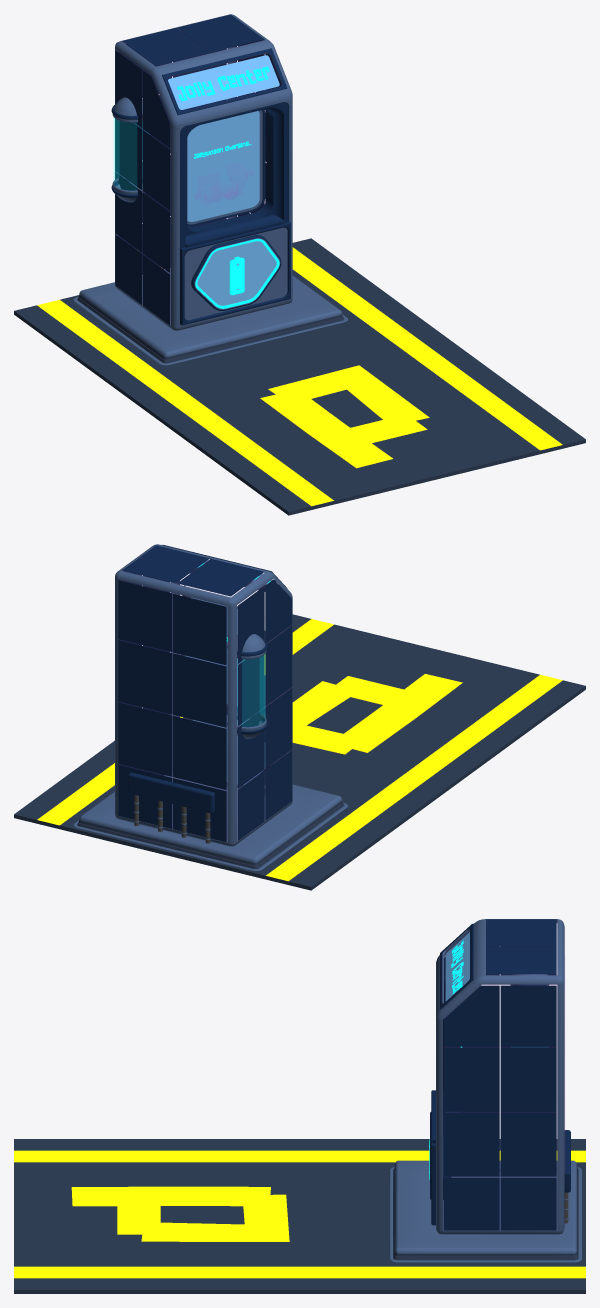
The model's file is JollyCenter.fbx.
The picture shows the model from 3 angles, top to bottom: view 1: azimuth 30°, elevation 25°; view 2: azimuth 150°, elevation 25°; view 3: azimuth 270°, elevation 25°; orthographic projection. The views are drawn at different scales.
Parts seen in each view (by area): view 1: Cube, Machine, Bottom, Parking_P, Charge_Pulse, Capsule, Centertext; view 2: Machine, Cube, Bottom, Parking_P, BackCables, Capsule; view 3: Cube, Machine, Bottom, Parking_P, BackCables.
Part boxes in pixels (box(x1,y1,x2,y2)): Cube: box(14, 238, 585, 515); Machine: box(115, 14, 292, 330); Bottom: box(73, 268, 347, 365); Parking_P: box(260, 365, 429, 468); Charge_Pulse: box(191, 235, 281, 310); Capsule: box(111, 97, 149, 202); Centertext: box(177, 66, 269, 101); Machine: box(115, 544, 292, 846); Cube: box(14, 614, 585, 890); Bottom: box(73, 775, 347, 870); Parking_P: box(292, 674, 462, 754); BackCables: box(128, 772, 214, 843); Capsule: box(227, 634, 267, 738); Cube: box(14, 1139, 585, 1293); Machine: box(431, 919, 564, 1234); Bottom: box(389, 1160, 581, 1262); Parking_P: box(71, 1186, 289, 1241); BackCables: box(564, 1130, 570, 1223).
Bounding box in the file's own units: 250 × 210 × 400.
